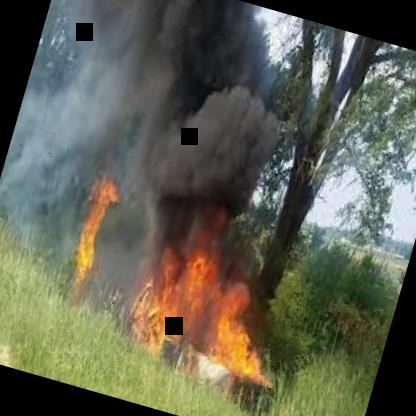fire: (79, 202, 297, 390), (115, 0, 285, 199)
